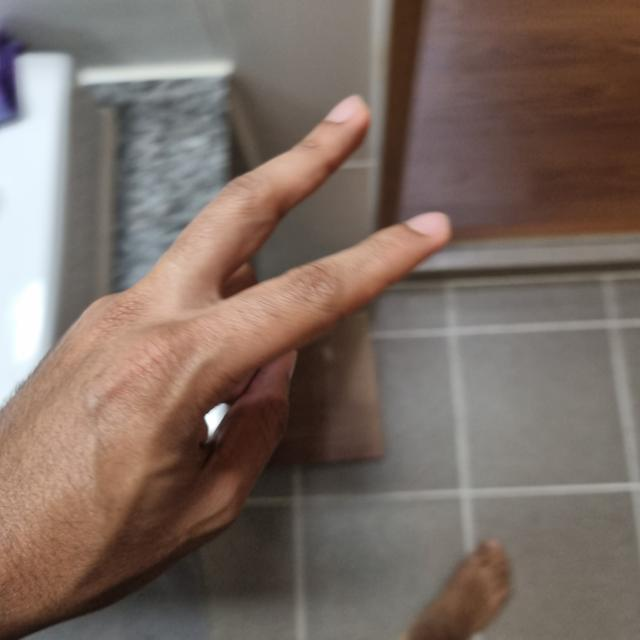Scissors: (0, 104, 439, 631)
